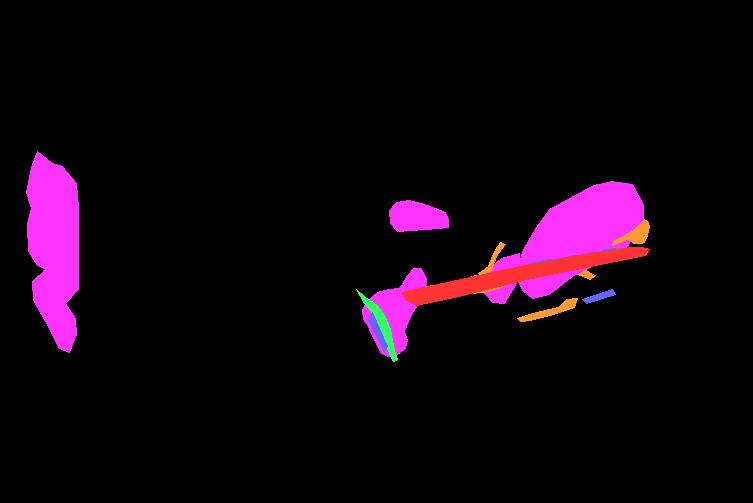Broken part: (356, 289, 397, 361)
Dent: (515, 181, 643, 298), (26, 151, 78, 352), (362, 268, 426, 356), (479, 253, 521, 303), (389, 200, 448, 231)
Missing part: (401, 247, 649, 305)
Paint chip: (419, 268, 515, 290), (517, 298, 577, 321), (612, 219, 649, 245), (478, 242, 505, 275), (464, 282, 506, 293), (402, 288, 416, 305), (577, 270, 595, 279)
Scratch: (368, 312, 387, 352), (417, 291, 466, 304), (582, 289, 615, 303), (586, 248, 626, 257), (527, 259, 553, 266), (568, 255, 584, 259), (557, 257, 565, 261)
